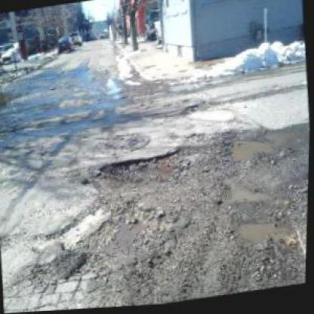Hueco: (71, 194, 176, 276), (92, 146, 188, 196), (216, 125, 302, 171), (232, 212, 298, 254), (216, 170, 273, 212), (180, 102, 224, 118)
